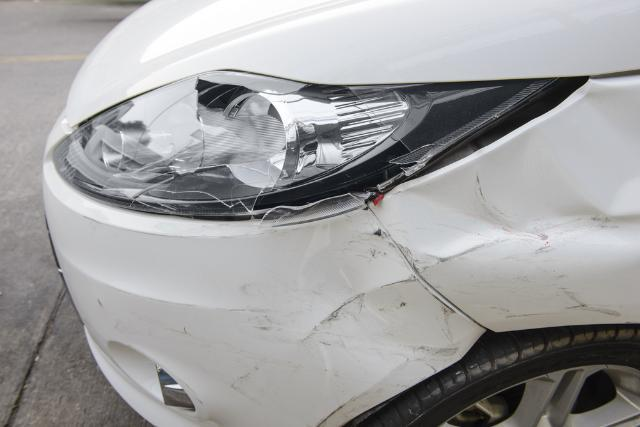dent: (373, 78, 639, 267), (265, 203, 483, 375)
lamp broken: (53, 69, 586, 219)
scratch: (457, 267, 627, 324)
